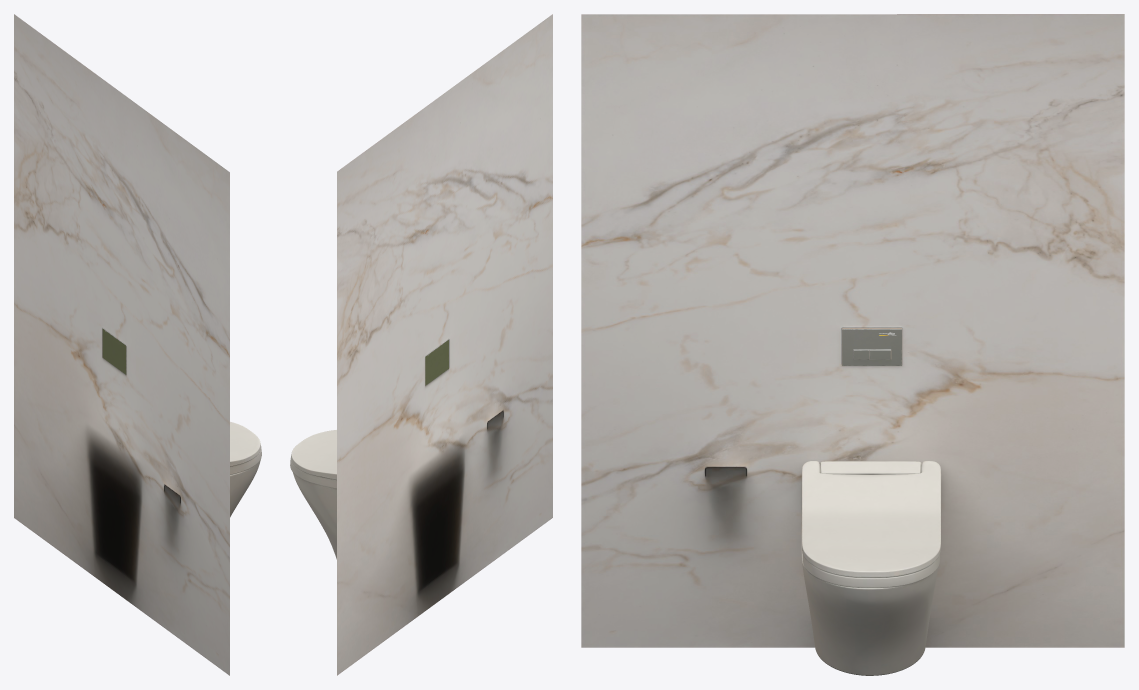
Rendered from e_clenz.glb.
3 renders of one model, left to right at view 1: azimuth 30°, elevation 25°; view 2: azimuth 150°, elevation 25°; view 3: azimuth 270°, elevation 25°, orthographic. The views are drawn at different scales.
Visible parts, largest first — view 1: e_clenz; view 2: e_clenz; view 3: e_clenz.
Part boxes in pixels (box(x1,y1,x2,y2)): e_clenz: box(14, 14, 261, 675); e_clenz: box(290, 14, 552, 675); e_clenz: box(581, 14, 1124, 675).
Size of the model in its own units: 0.7214 by 2.5 by 1.94.
Materials: 1 (1 with a texture image).
